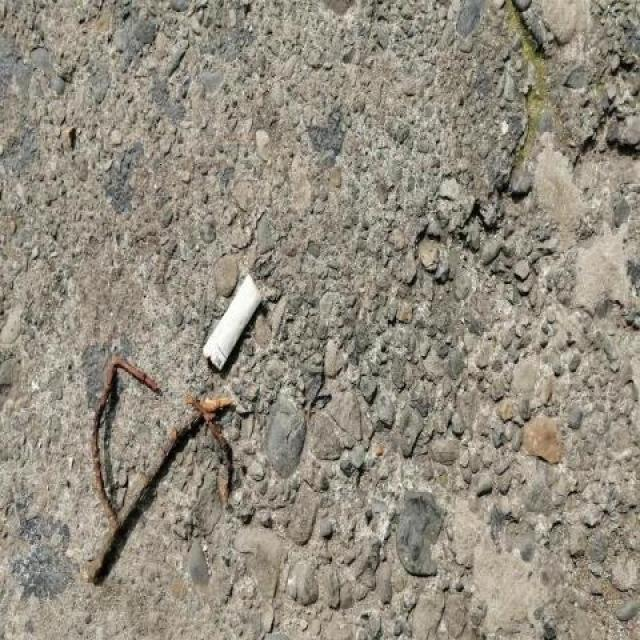non-organic waste: (200, 268, 265, 380)
